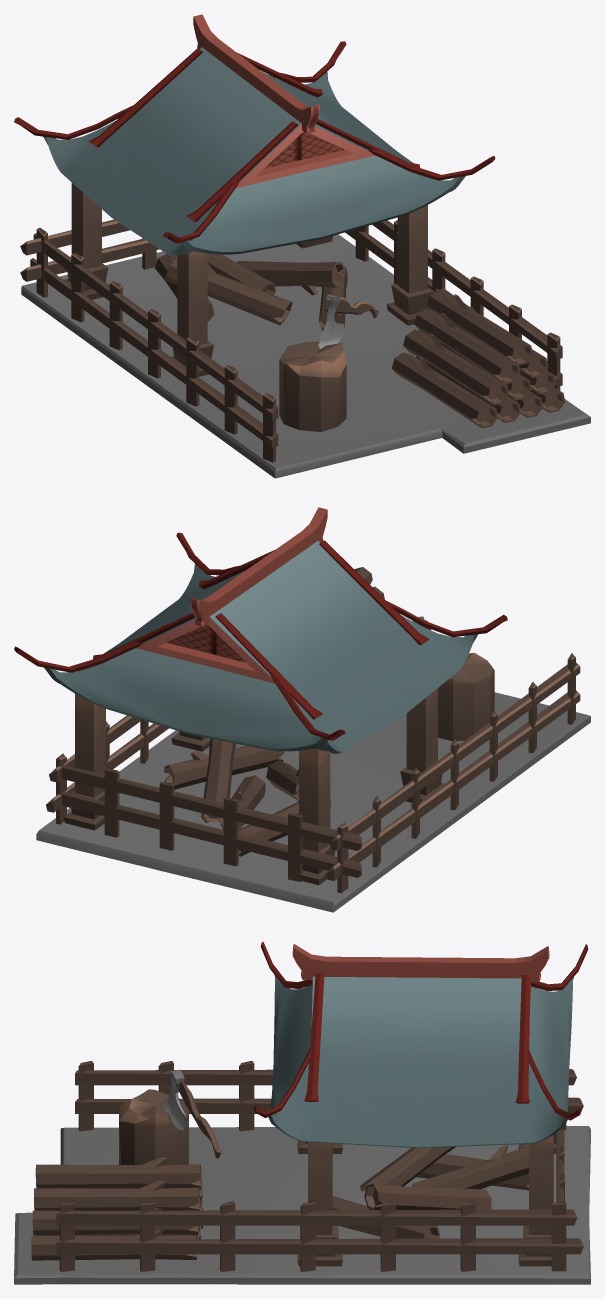
Rendered from sawmill_1lvl.fbx.
3 views of the same model, one above another, from view 1: azimuth 30°, elevation 25°; view 2: azimuth 150°, elevation 25°; view 3: azimuth 270°, elevation 25° (orthographic). The views are drawn at different scales.
Parts seen in each view (by area): view 1: sawmill_1lvl; view 2: sawmill_1lvl; view 3: sawmill_1lvl.
Boxes of the visible parts, x1,y1,x2,y2 form: sawmill_1lvl: (14,14,590,478); sawmill_1lvl: (14,507,590,912); sawmill_1lvl: (14,941,590,1284).
Bounding box in the file's own units: 4.53 × 3.33 × 6.47.
